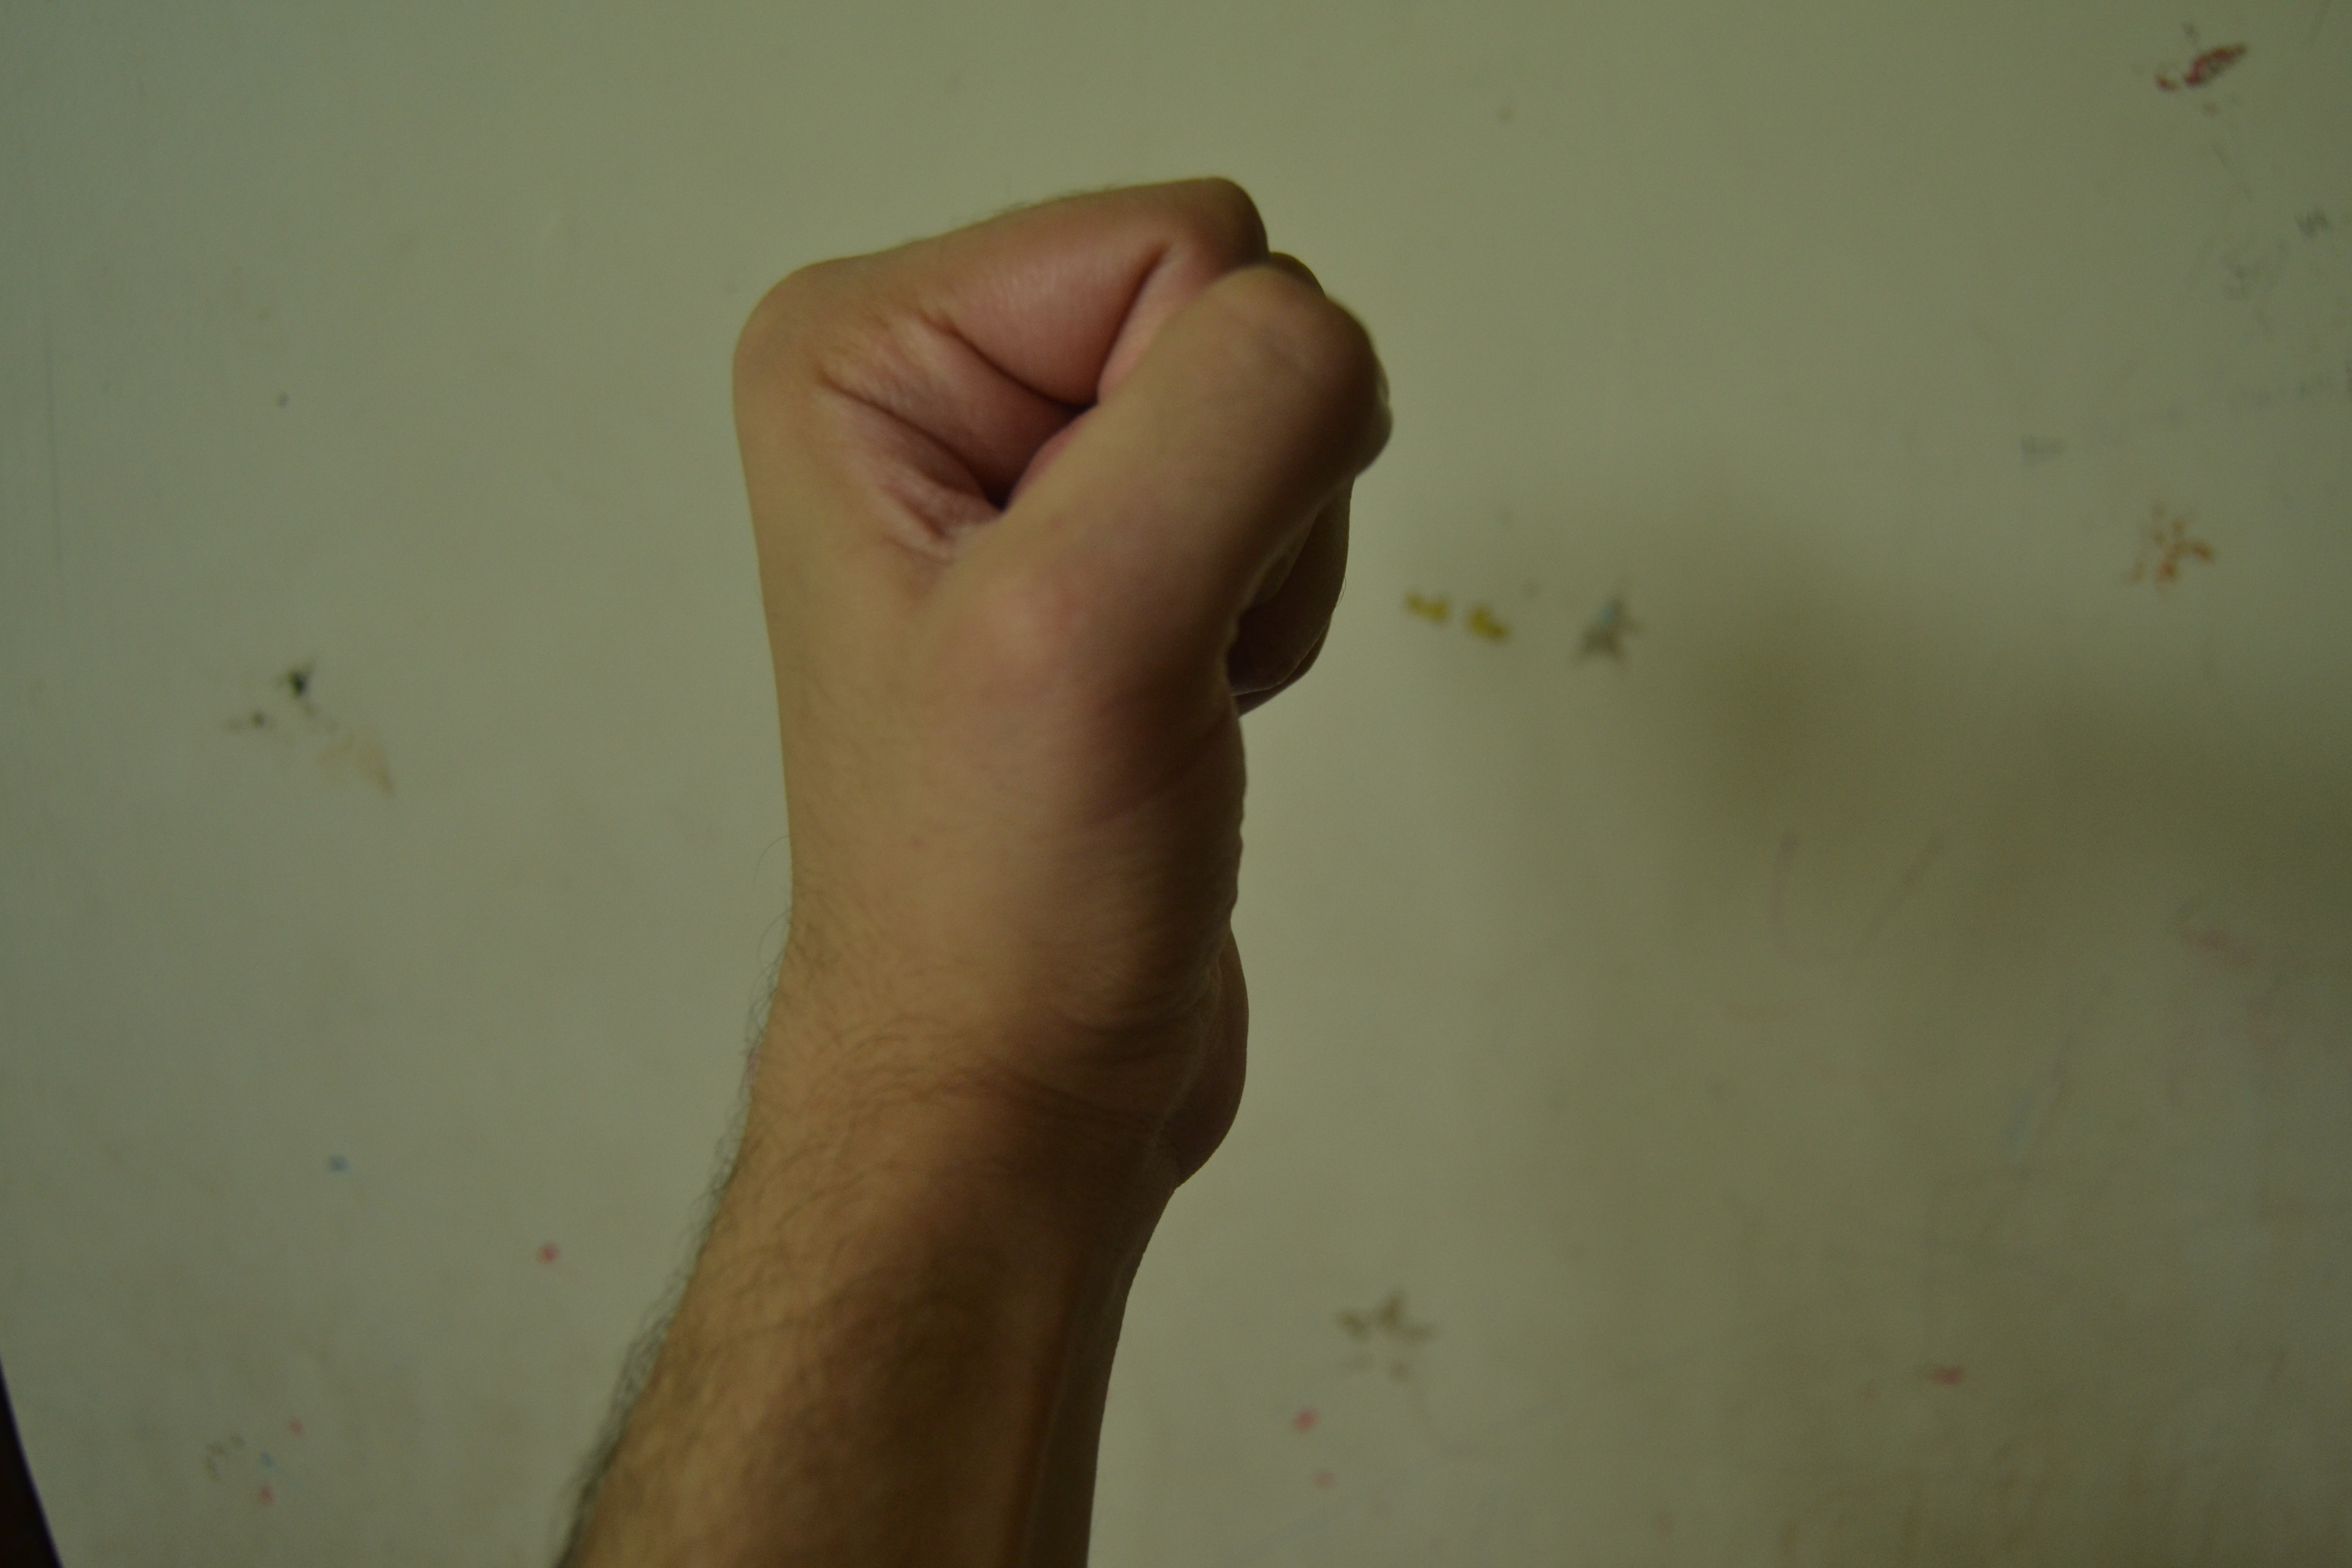click: (672, 180, 1493, 1398)
